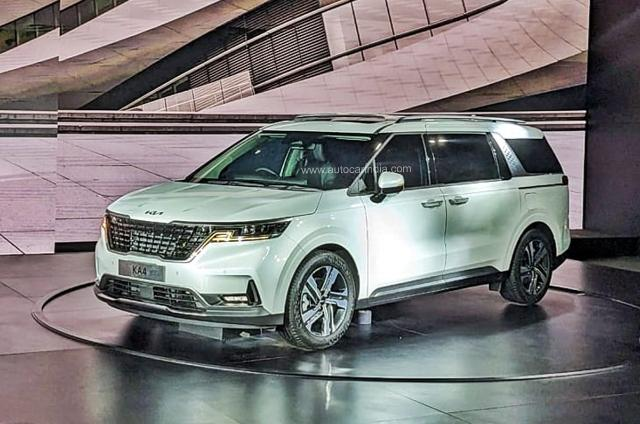kia: (93, 113, 571, 349)
